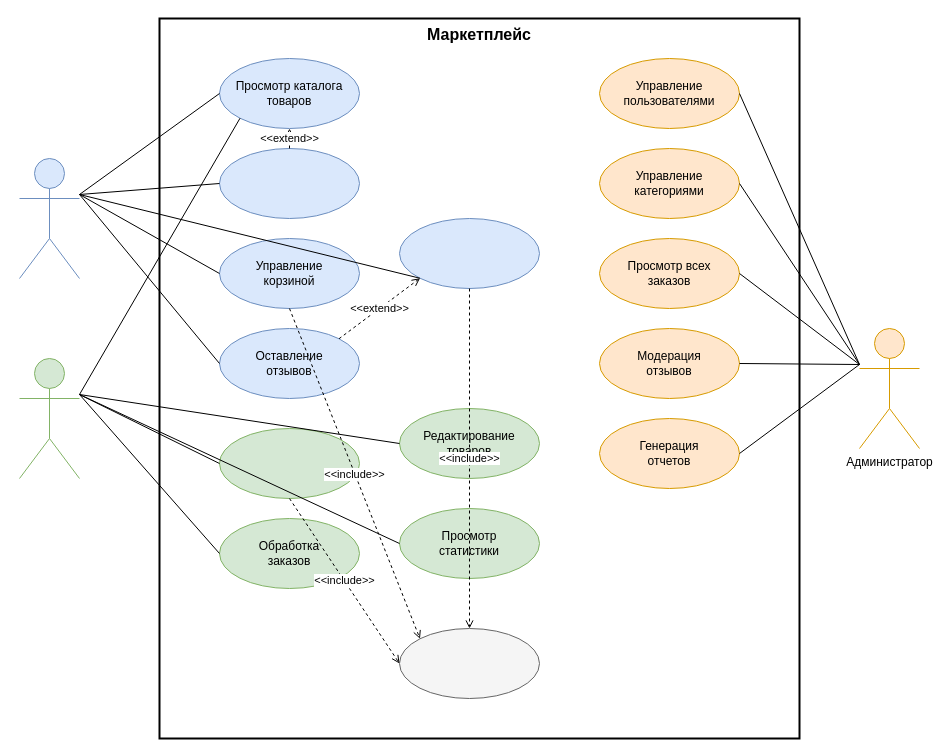
This 950x756 diagram has some shape labels left out. Each missing label, with the box of its shape:
Авторизация: (398, 628, 540, 698)
Добавление товаров: (218, 428, 360, 498)
Оформление заказа: (398, 218, 540, 288)
Поиск товаров: (218, 148, 360, 218)
Покупатель: (18, 158, 80, 278)
Продавец: (18, 358, 80, 478)
